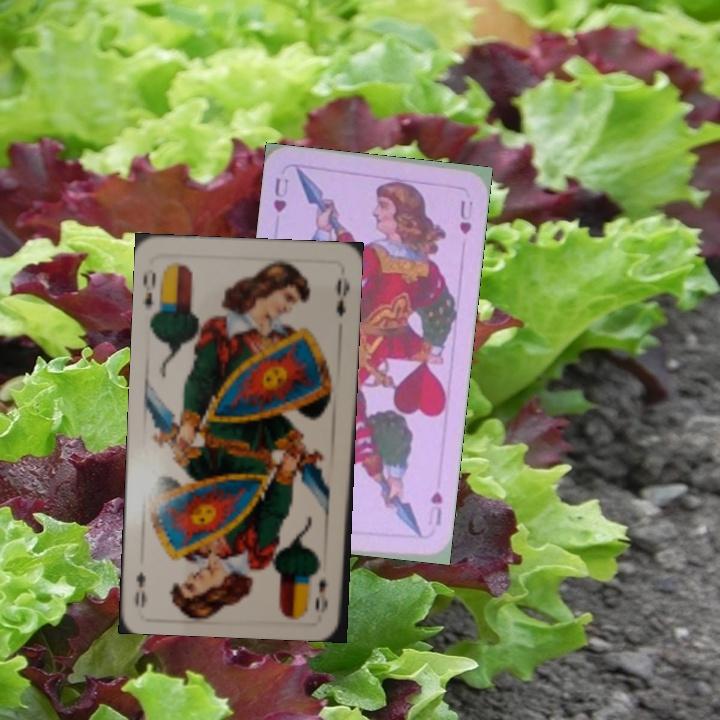EO: (140, 268, 166, 318), (312, 574, 331, 615)
HU: (269, 174, 291, 215), (426, 488, 445, 528)
